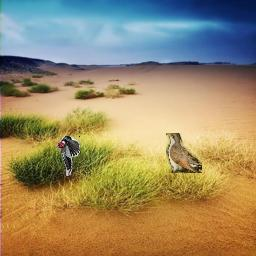Cuckoo: (166, 133, 202, 173)
Woodpecker: (56, 136, 80, 176)
